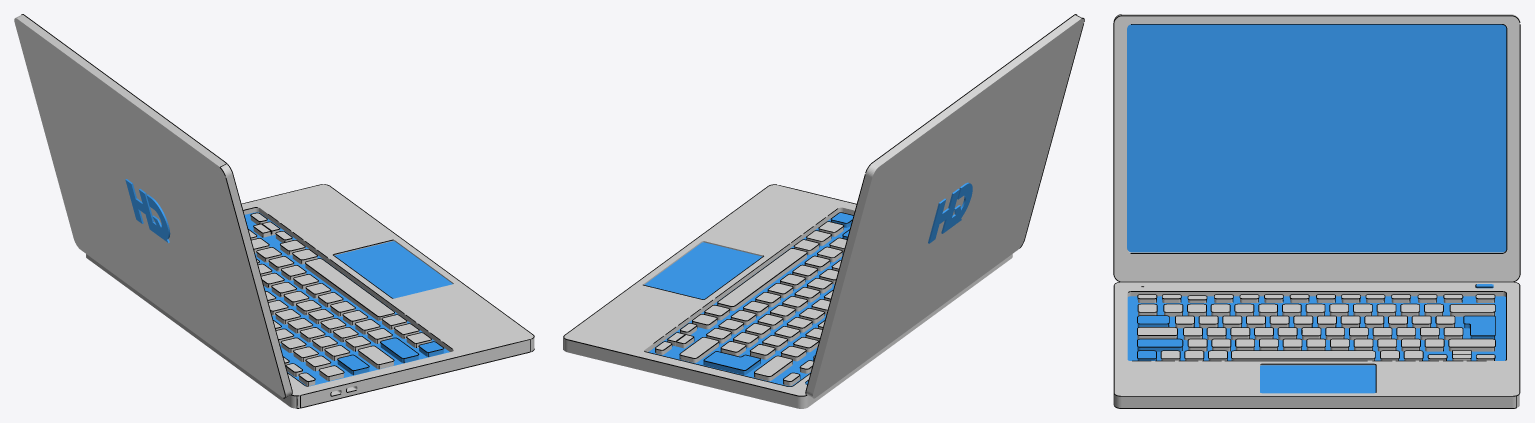
Rendered from finalLaptop.glb.
3 renders of one model, left to right at view 1: azimuth 30°, elevation 25°; view 2: azimuth 150°, elevation 25°; view 3: azimuth 270°, elevation 25°, orthographic. The views are drawn at different scales.
Parts seen in each view (by area): view 1: screenFrame, mainFrame, Space, ShiftLeft, CapsLock; view 2: screenFrame, mainFrame, Space, Enter, ShiftRight, Backspace; view 3: screenFrame, mainFrame, Space, Enter, ShiftRight, ShiftLeft, Backspace, CapsLock, Tab.
Boxes of the visible parts, <box> form: screenFrame: <box>14,14,292,398</box>; mainFrame: <box>86,184,534,408</box>; Space: <box>305,258,394,321</box>; ShiftLeft: <box>380,337,419,362</box>; CapsLock: <box>358,345,394,369</box>; screenFrame: <box>805,14,1084,398</box>; mainFrame: <box>563,184,1012,408</box>; Space: <box>717,248,807,310</box>; Enter: <box>703,351,760,374</box>; ShiftRight: <box>679,337,719,362</box>; Backspace: <box>754,355,792,380</box>; screenFrame: <box>1113,14,1520,282</box>; mainFrame: <box>1113,281,1520,408</box>; Space: <box>1231,350,1375,360</box>; Enter: <box>1463,315,1495,338</box>; ShiftRight: <box>1448,338,1495,351</box>; ShiftLeft: <box>1137,338,1183,351</box>; Backspace: <box>1449,304,1495,316</box>; CapsLock: <box>1137,327,1177,338</box>; Tab: <box>1137,315,1169,327</box>.
Size of the model in its own units: 5.15 by 4.07 by 6.02.
